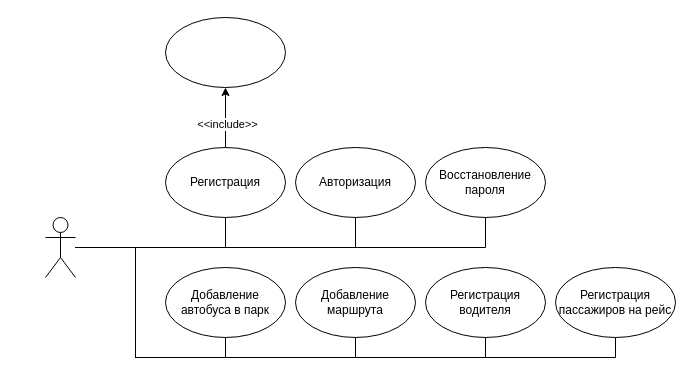
This 693x376 diagram has some shape labels left out. Each missing label, with the centre of its shape:
"Корпоративный пользователь" goes at (x=60, y=247).
"Прикрепление документов" goes at (x=225, y=52).
